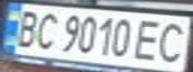0: (112, 15, 139, 60), (75, 12, 100, 55)
1: (97, 15, 118, 57)
9: (54, 11, 81, 53)
B: (9, 7, 45, 48)
C: (151, 19, 193, 64), (30, 9, 63, 52)
E: (130, 17, 169, 62)
